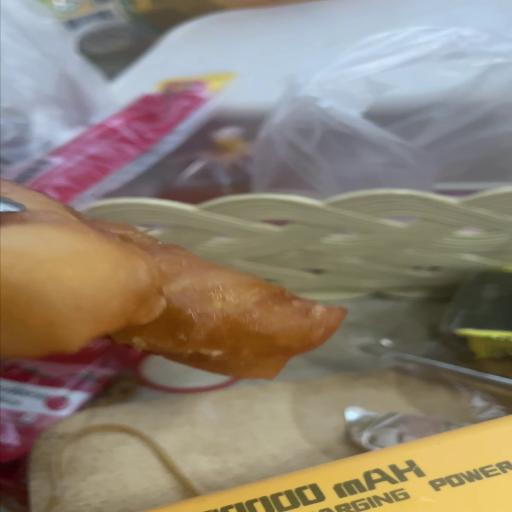street_burnt_defect: (0, 179, 346, 379), (0, 179, 345, 378)
street_burnt_good: (0, 179, 345, 378)
